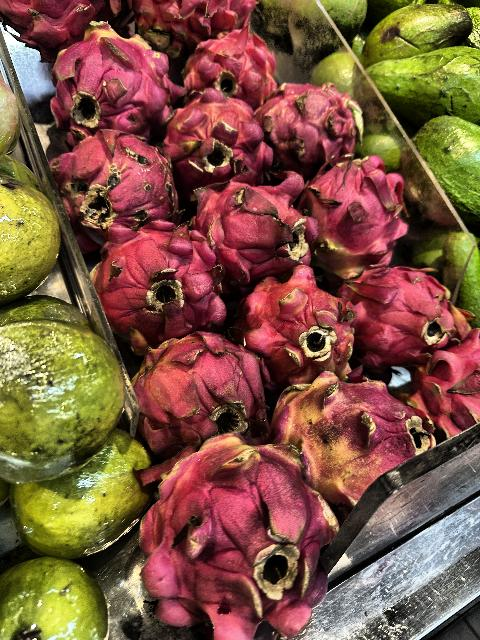buah-naga-belum-matang: (152, 442, 332, 628), (268, 374, 430, 488), (294, 154, 406, 274), (43, 30, 176, 130), (160, 102, 270, 190)
buah-naga-matang: (89, 221, 228, 341), (136, 336, 274, 452), (47, 126, 180, 230), (242, 274, 358, 382), (187, 183, 319, 275), (248, 84, 364, 174), (350, 265, 462, 355), (178, 36, 284, 102)
